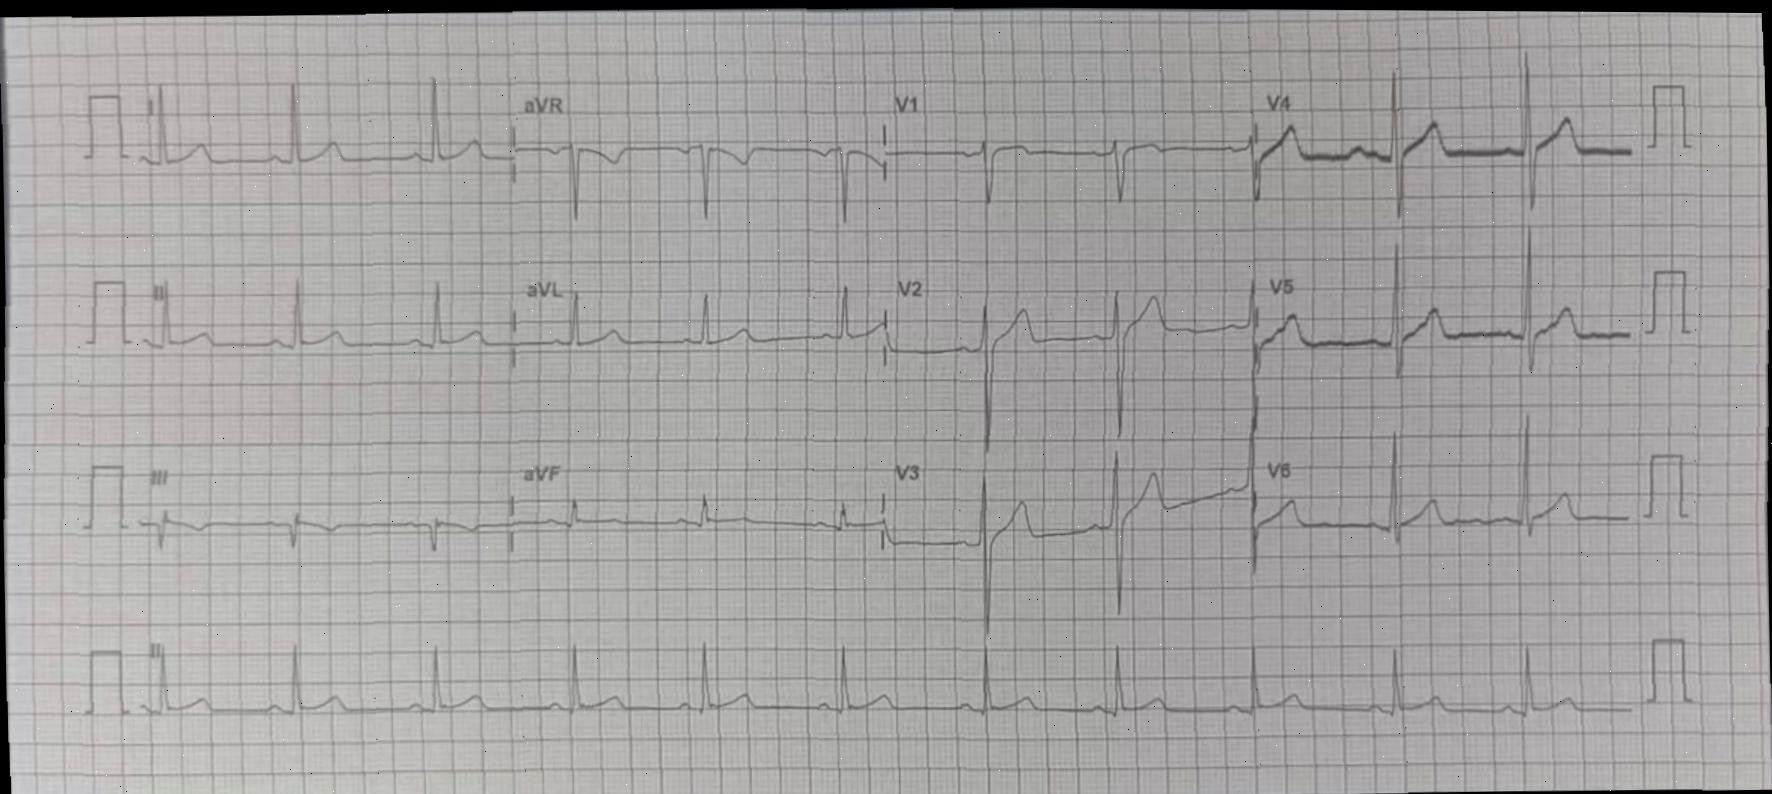Lead_I: (124, 61, 513, 212)
Lead_II: (136, 264, 513, 390)
Lead_III: (137, 443, 514, 583)
Lead_II_ext: (137, 601, 1635, 760)
Lead_V1: (885, 63, 1260, 234)
Lead_V2: (891, 252, 1257, 462)
Lead_V3: (891, 429, 1260, 648)
Lead_V4: (1254, 25, 1644, 236)
Lead_V5: (1254, 218, 1641, 412)
Lead_V6: (1252, 393, 1640, 594)
Lead_aVF: (513, 431, 884, 575)
Lead_aVL: (512, 259, 885, 399)
Lead_aVR: (512, 70, 888, 247)
